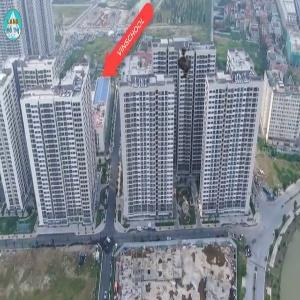drone: (165, 42, 213, 90)
